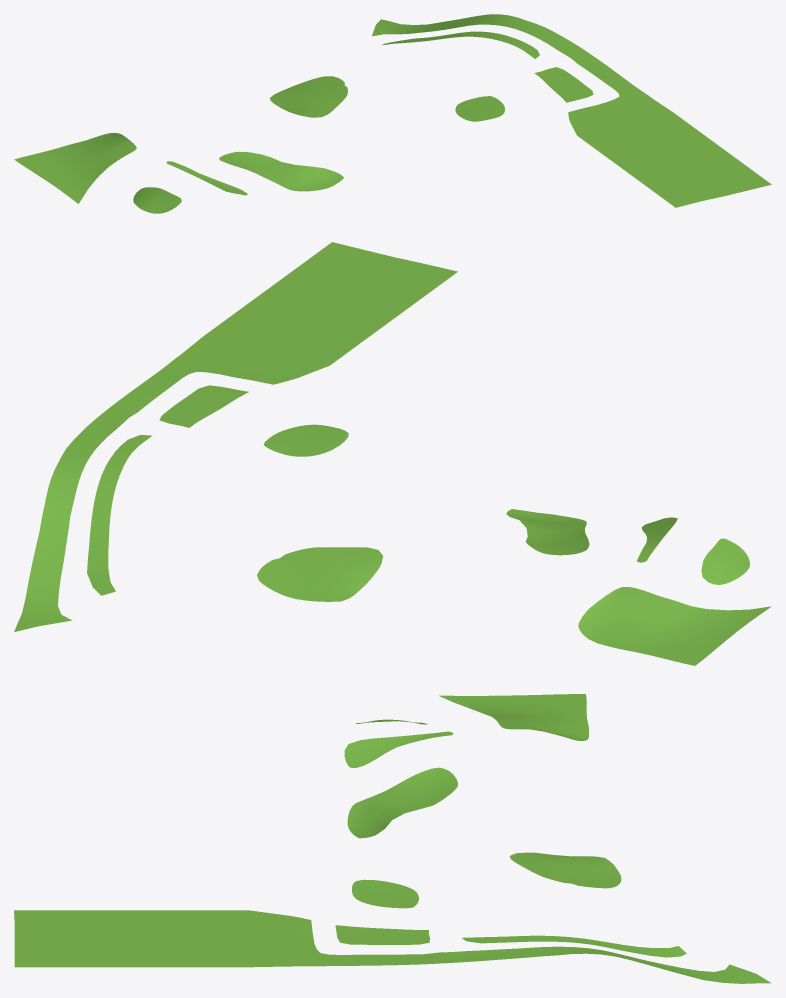
Rendered from Grass_2.fbx.
3 views of the same model, one above another, from view 1: azimuth 30°, elevation 25°; view 2: azimuth 150°, elevation 25°; view 3: azimuth 270°, elevation 25° (orthographic). The views are drawn at different scales.
Visible parts, largest first — view 1: grass; view 2: grass; view 3: grass.
Boxes of the visible parts, box(x1,y1,x2,y2) form: grass: box(14, 14, 771, 213); grass: box(14, 242, 771, 665); grass: box(14, 694, 771, 983).
Size of the model in its own units: 21627 by 2062 by 22979.
